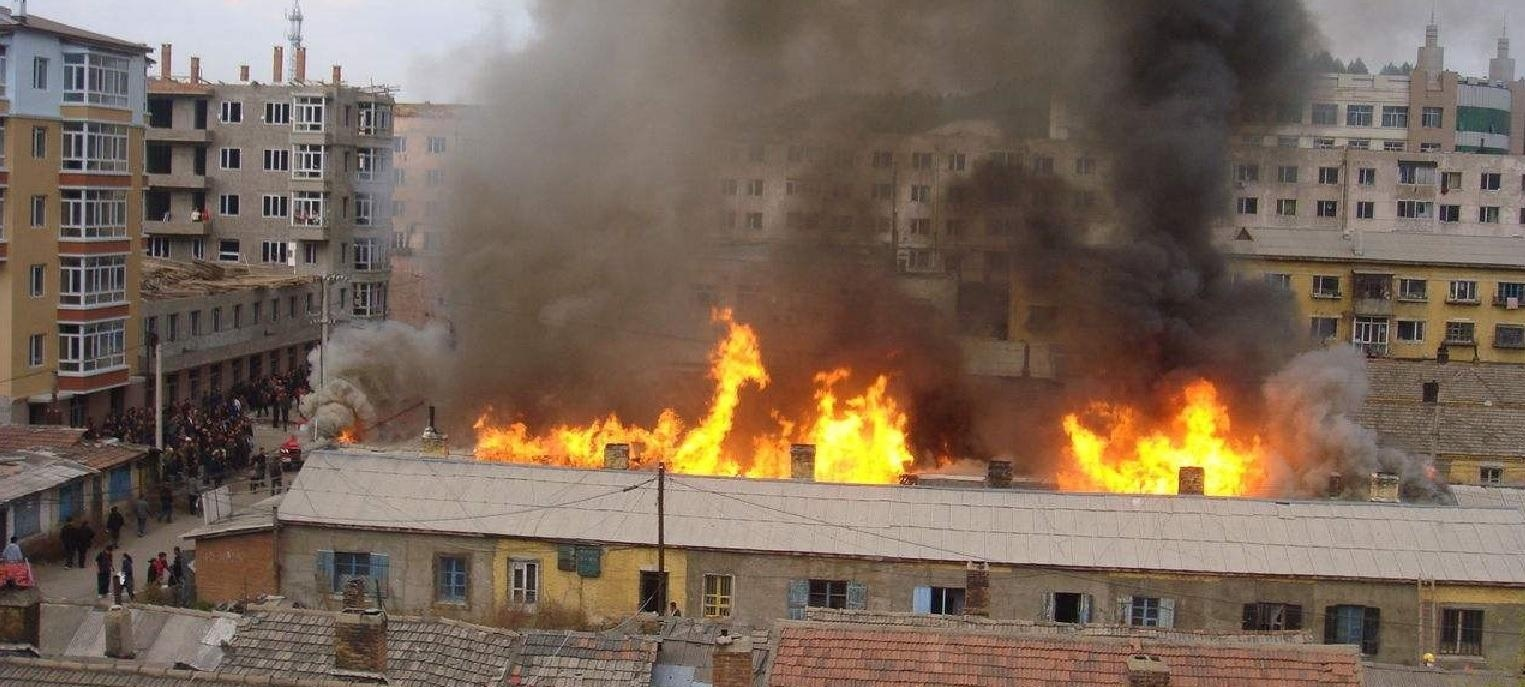fire: (469, 313, 930, 485), (1055, 384, 1259, 496), (332, 422, 358, 444)
